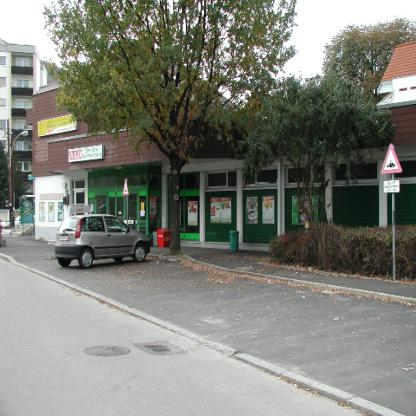car: (54, 216, 152, 270)
